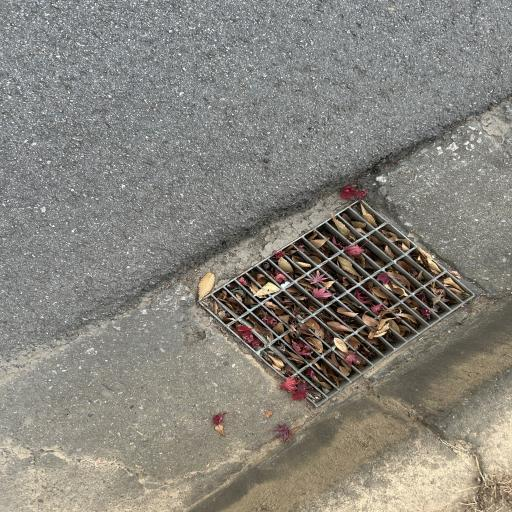debris: (363, 305, 397, 338), (231, 322, 265, 352), (334, 338, 368, 368), (262, 349, 296, 377), (318, 312, 353, 338), (244, 314, 276, 342), (272, 251, 303, 279), (204, 297, 236, 324), (215, 289, 247, 316), (274, 342, 307, 368), (277, 294, 311, 319), (303, 368, 335, 394), (265, 301, 297, 327), (376, 273, 408, 299), (297, 323, 323, 353), (255, 308, 286, 333), (285, 334, 316, 359), (238, 278, 280, 296), (307, 318, 335, 344), (308, 270, 334, 298), (354, 288, 383, 313), (289, 287, 319, 311), (228, 283, 257, 307), (367, 282, 396, 306), (382, 229, 411, 252), (315, 363, 345, 385), (286, 246, 313, 270), (356, 204, 382, 228), (428, 282, 455, 305), (413, 251, 441, 273), (332, 219, 358, 242), (389, 269, 416, 291), (443, 277, 469, 299), (406, 299, 433, 320), (344, 214, 371, 235), (400, 261, 428, 281), (371, 236, 396, 258), (328, 353, 352, 375), (349, 337, 374, 358), (265, 266, 291, 286), (338, 257, 362, 278), (418, 292, 442, 311), (299, 244, 323, 263), (397, 307, 420, 326), (291, 375, 310, 396), (306, 233, 329, 249), (391, 320, 412, 336), (355, 257, 374, 271), (339, 307, 360, 317), (330, 236, 345, 249), (346, 245, 363, 255), (258, 275, 270, 286)
drain: (197, 199, 477, 406)
